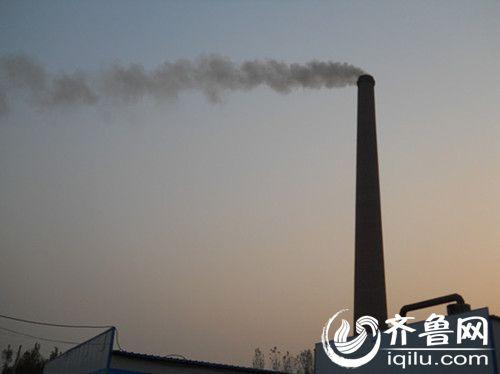smoke: (23, 53, 356, 98)
